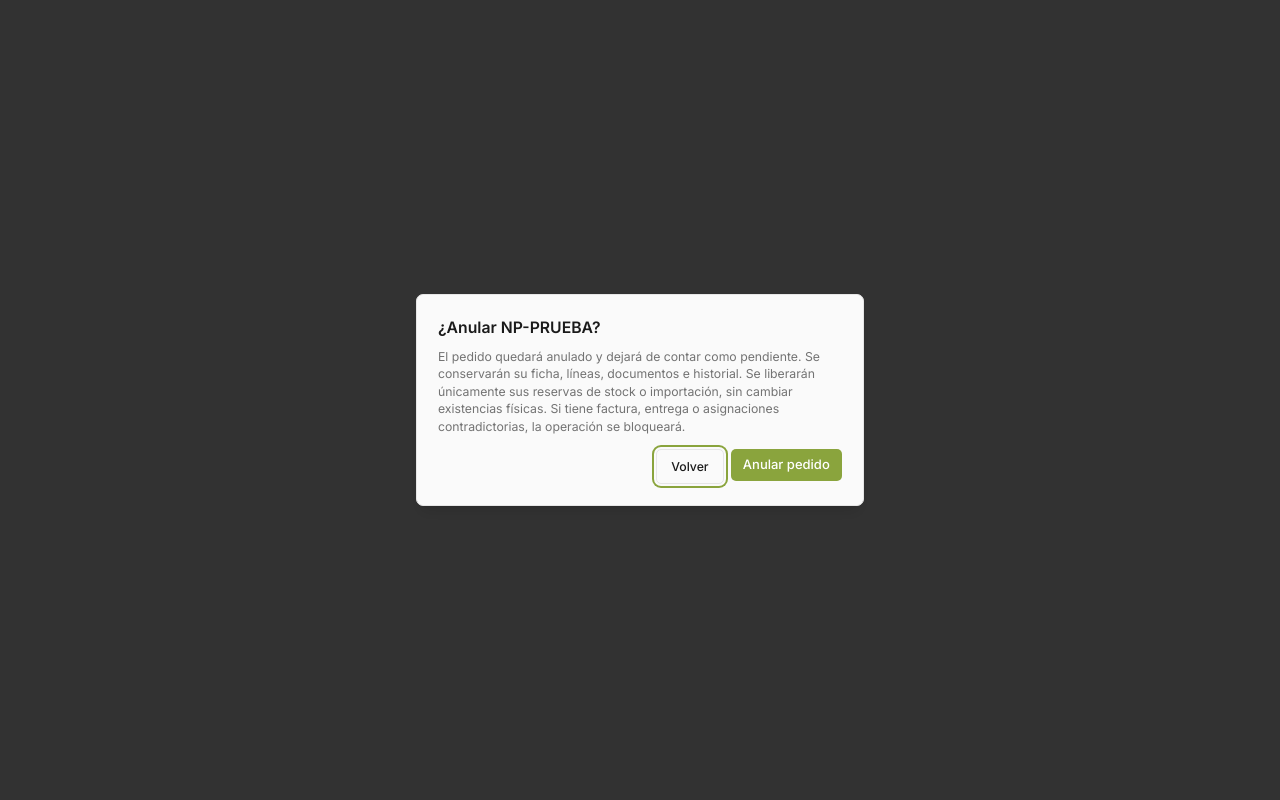
Test: error mantiene diálogo y no finge éxito
The image size is (1280, 800).
Click the button "Anular pedido": (786, 465) [731, 449, 842, 480]
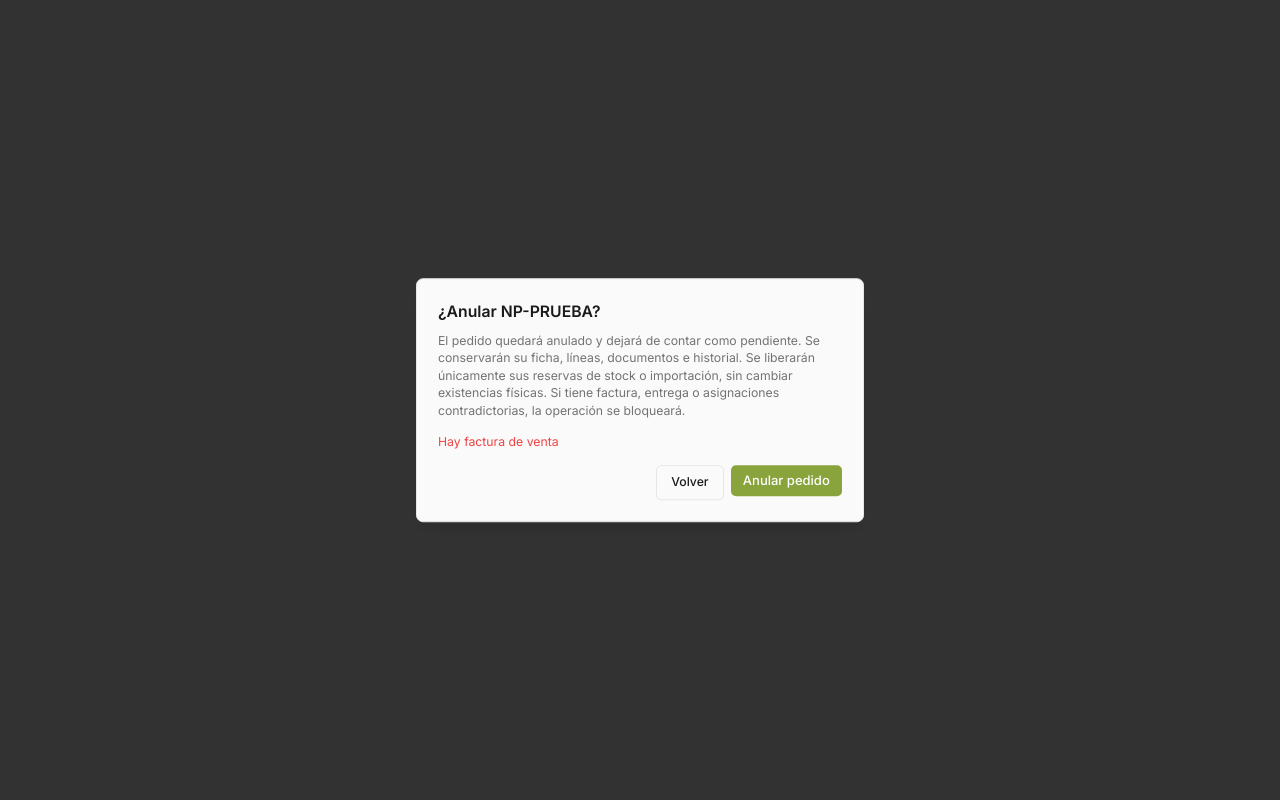
Now the message shows "Hay factura", box [438, 434, 559, 449]
